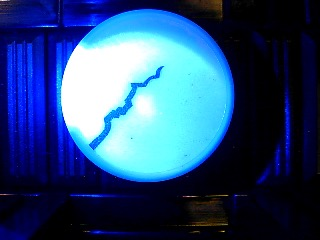CRACK: (60, 8, 235, 182)
